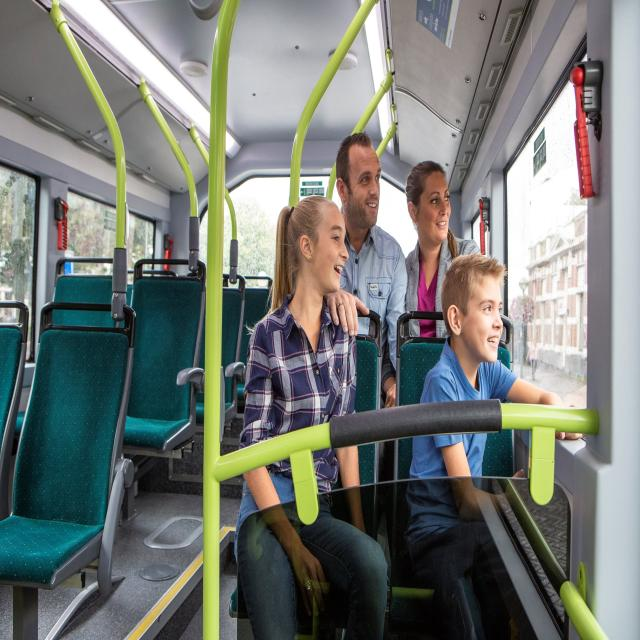empty-seat-frontal: (0, 301, 136, 592), (123, 257, 202, 455)
